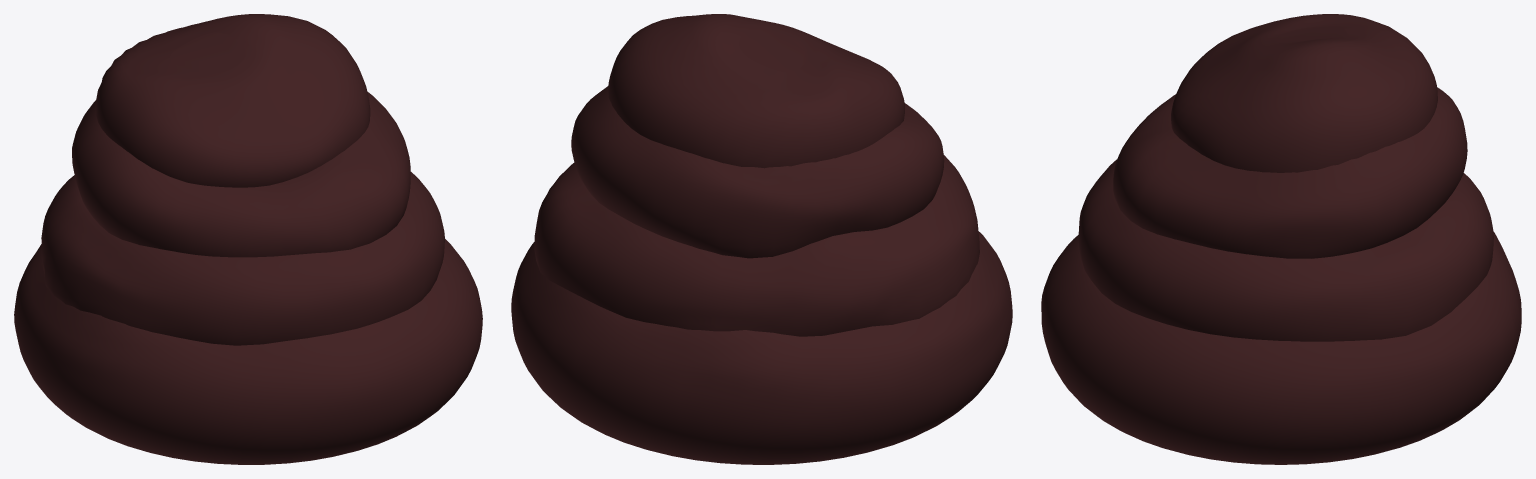
The model's file is puup.glb.
3 renders of one model, left to right at view 1: azimuth 30°, elevation 25°; view 2: azimuth 150°, elevation 25°; view 3: azimuth 270°, elevation 25°, orthographic. The views are drawn at different scales.
Visible parts, largest first — view 1: Torus.004; view 2: Torus.004; view 3: Torus.004.
Part boxes in pixels (bbox=[...]): Torus.004: bbox=[14, 14, 482, 464]; Torus.004: bbox=[511, 14, 1012, 464]; Torus.004: bbox=[1041, 14, 1521, 464].
Bounding box in the file's own units: 1.58 × 1.31 × 1.58.
Materials: 1 (1 with a texture image).
